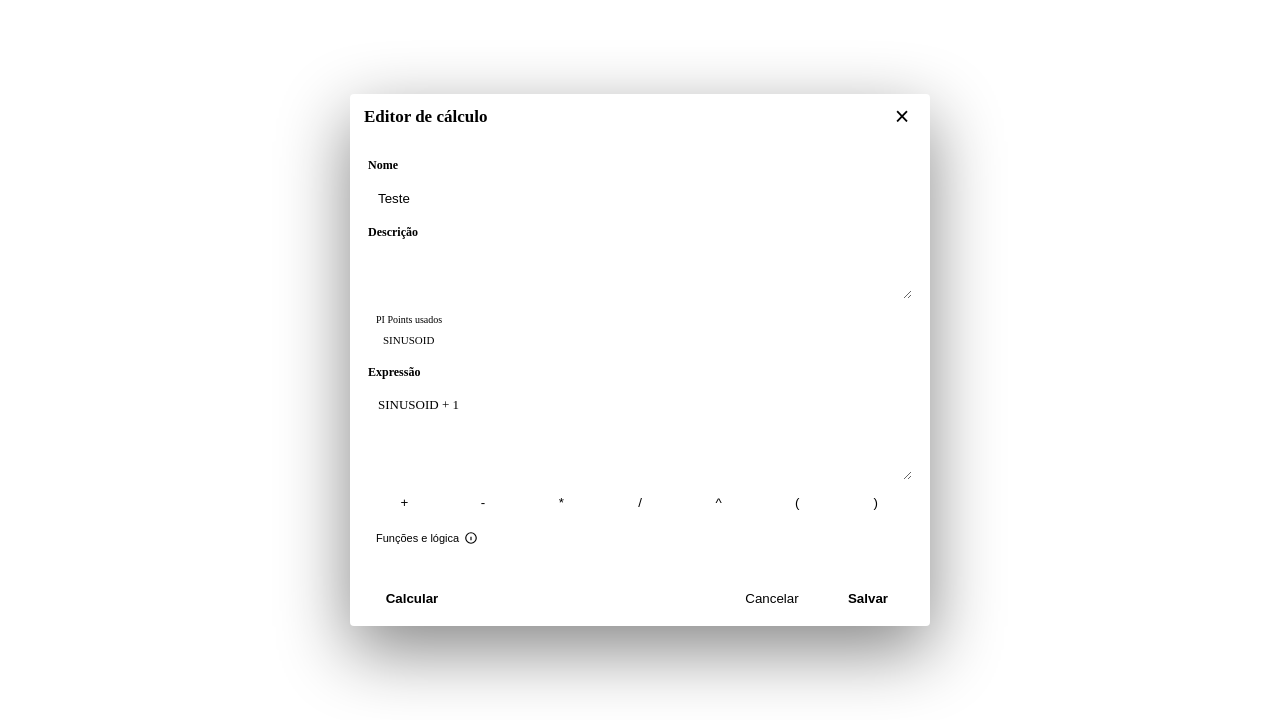
encerra loading sem histórico pendente como erro controlado
Click the button with test id "calculation-editor-execute": (412, 598) [368, 582, 456, 614]
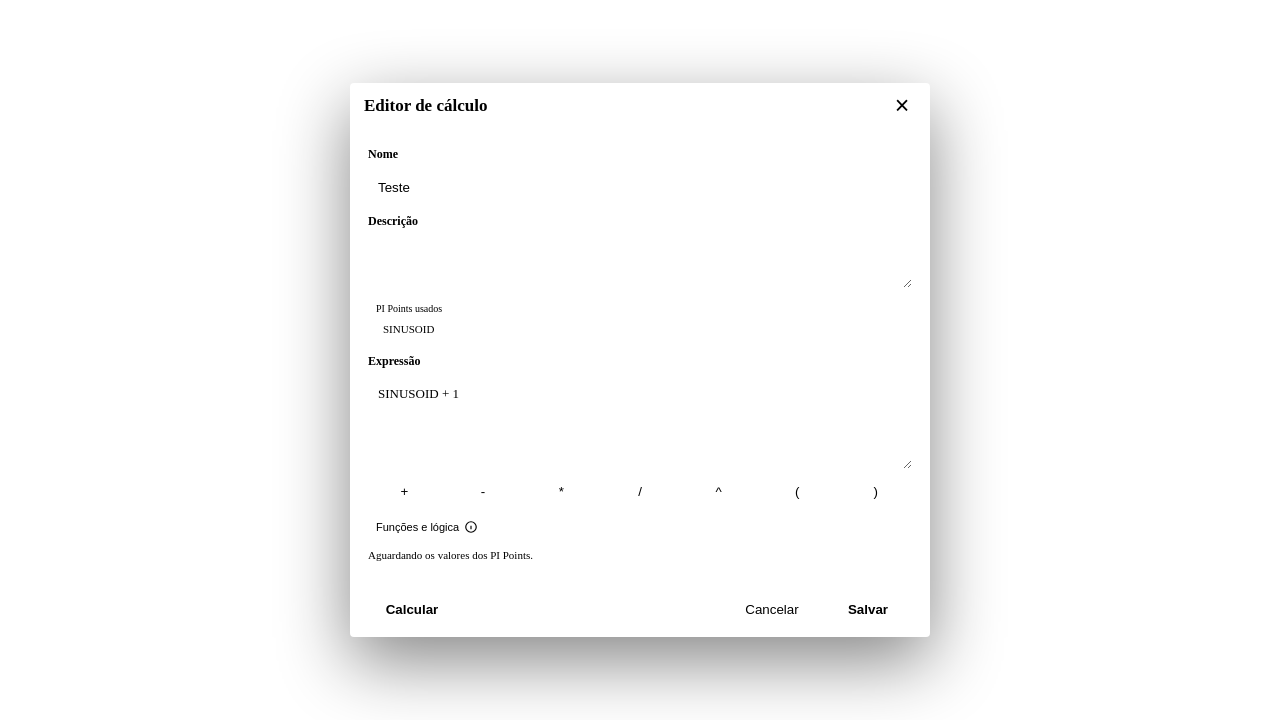
Expected: the button with test id "calculation-editor-execute" is enabled, [368, 593, 456, 625]
Now the message reads "Aguardando os valores dos PI Points.", box [368, 549, 533, 561]
